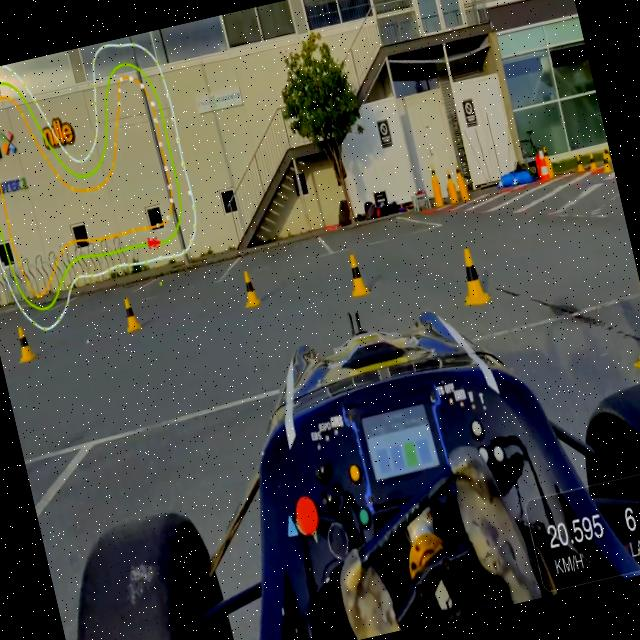large_orange_cone: (536, 148, 552, 184)
yellow_cone: (610, 267, 640, 382), (449, 242, 493, 310), (338, 248, 372, 302), (8, 322, 38, 366), (235, 267, 263, 310), (119, 294, 142, 334), (598, 148, 612, 174), (586, 150, 600, 171), (574, 151, 586, 173), (542, 144, 552, 164), (427, 162, 438, 180), (444, 166, 454, 183), (453, 164, 462, 179)
